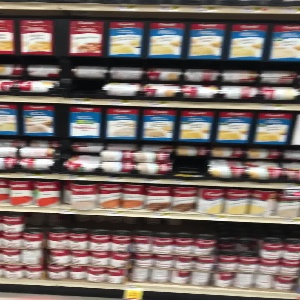void: (170, 146, 210, 182), (66, 66, 104, 100)
